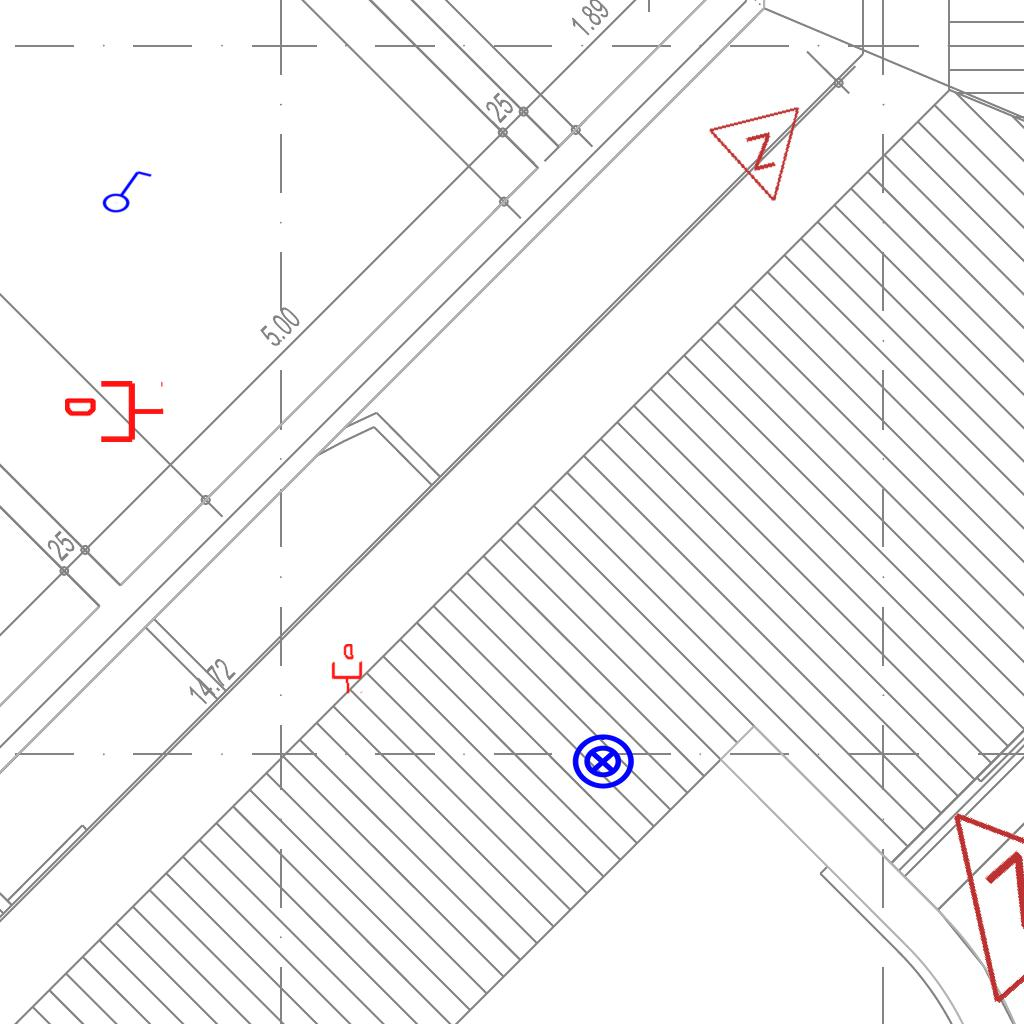Ausschalter: (97, 166, 153, 214)
Datenanschluss_einfach: (65, 377, 165, 446), (329, 643, 365, 695)
Taster_beleuchtet: (570, 729, 636, 795)
Zimmersignalleuchte: (870, 741, 1024, 1021), (705, 98, 825, 220)
